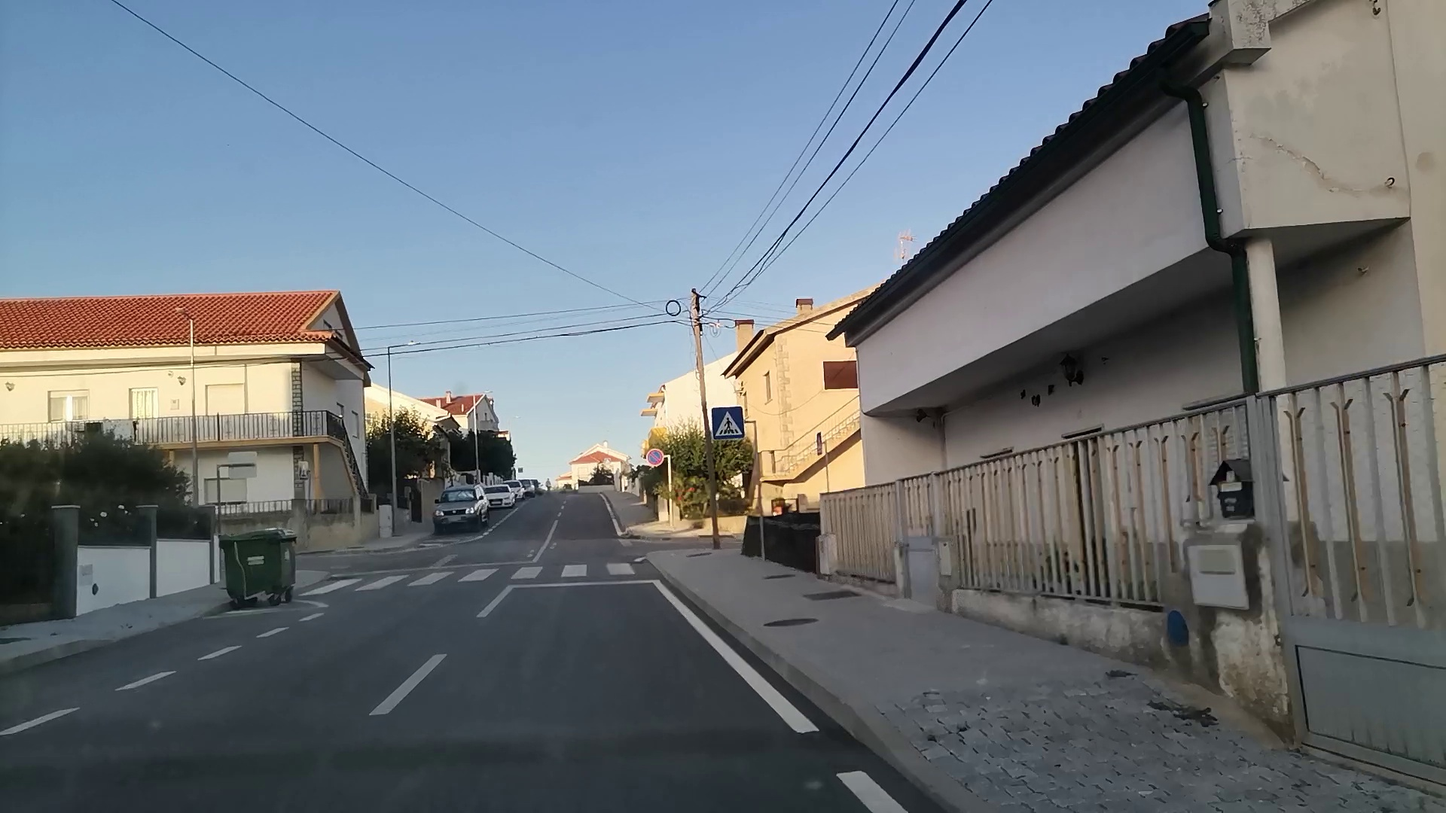Stairs: (316, 561, 648, 595)
